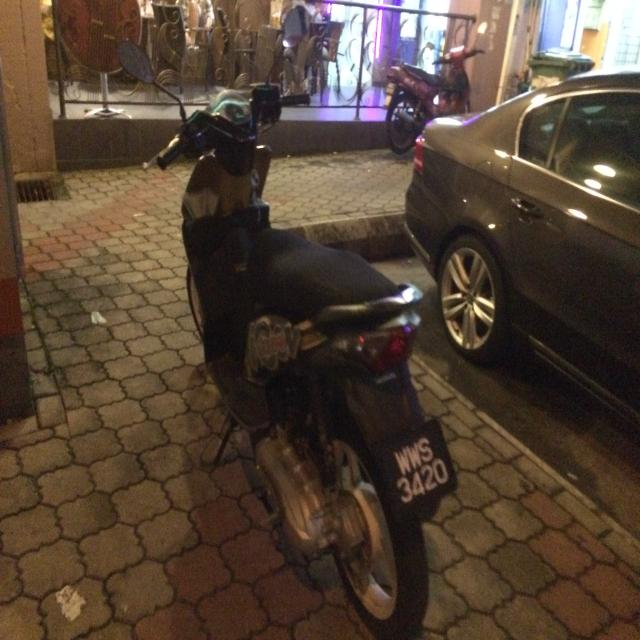Motorbike: (123, 46, 460, 640)
